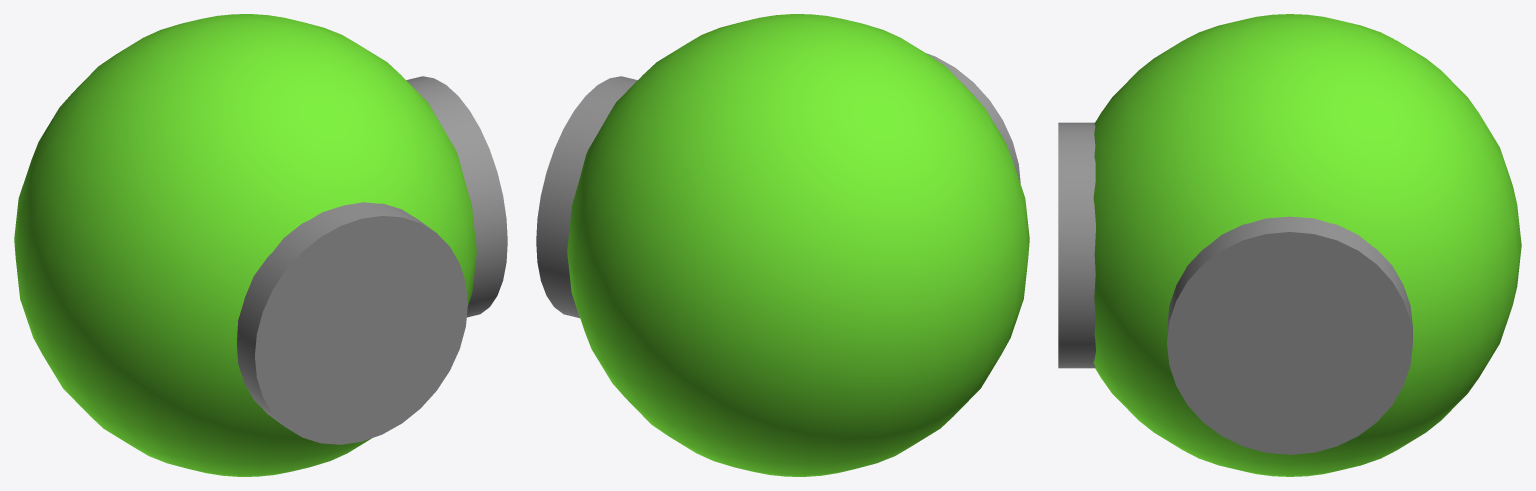
The model's file is LinkModel.FBX.
3 views of the same model, side by side, from view 1: azimuth 30°, elevation 25°; view 2: azimuth 150°, elevation 25°; view 3: azimuth 270°, elevation 25° (orthographic).
Parts seen in each view (by area): view 1: Joint, AxisZ, AxisX; view 2: Joint, AxisX, AxisZ; view 3: Joint, AxisX, AxisZ.
Boxes of the visible parts, box(x1,y1,x2,y2) form: Joint: box(14, 14, 476, 476); AxisZ: box(237, 202, 467, 444); AxisX: box(406, 76, 507, 317); Joint: box(567, 14, 1029, 476); AxisX: box(536, 76, 637, 318); AxisZ: box(926, 53, 1020, 183); Joint: box(1093, 14, 1521, 476); AxisX: box(1167, 216, 1412, 454); AxisZ: box(1058, 122, 1095, 368).
Bounding box in the file's own units: 2 × 2 × 2.
